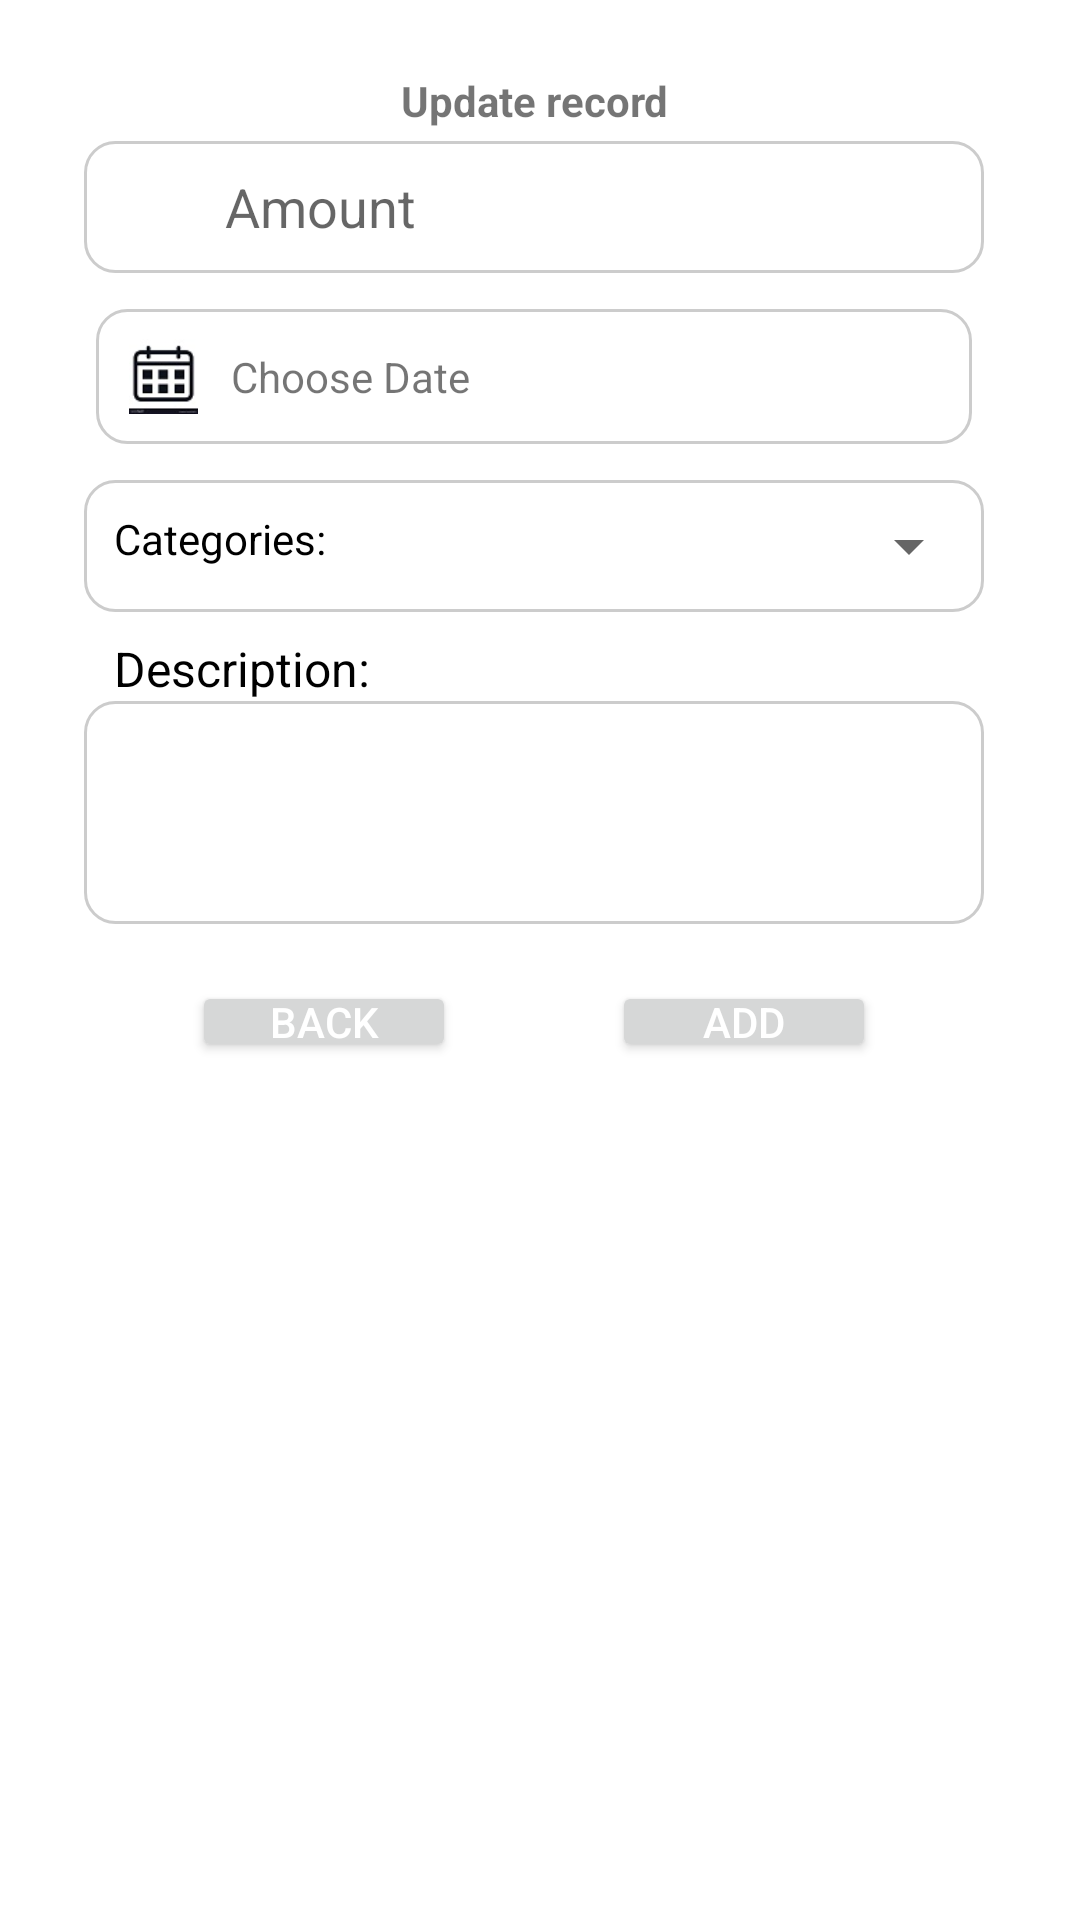

Where to tap for icons on this 1080 x 1920 app screen, as (x=x, y=y):
calender: (x=163, y=379)
